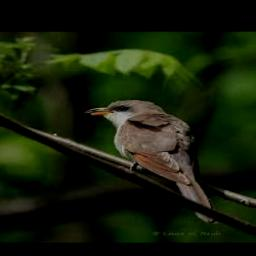Cuckoo: (85, 100, 217, 225)
